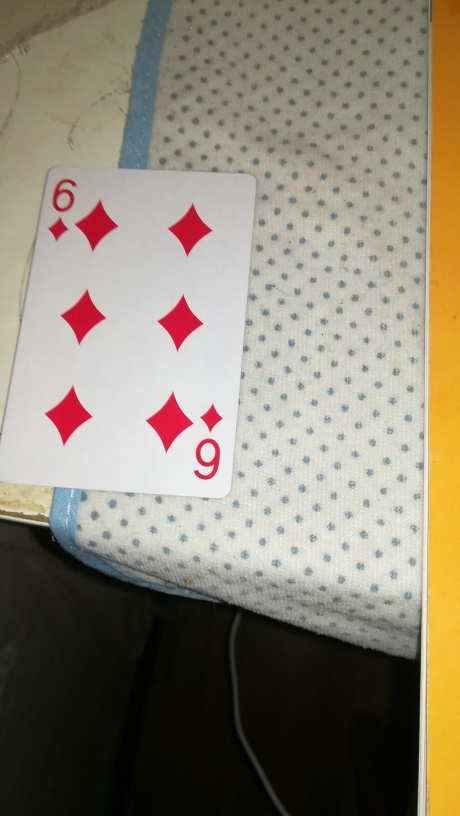fk 5: (2, 160, 256, 497)
